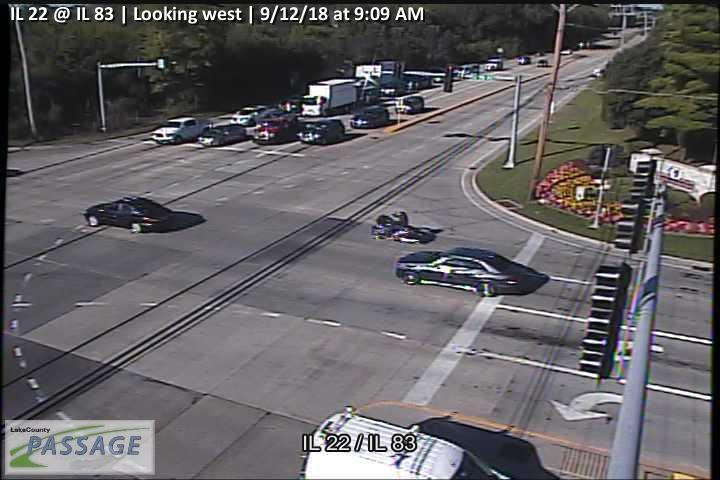Motorbike: (370, 209, 434, 244)
SUV: (300, 407, 509, 480), (252, 113, 299, 146), (293, 117, 345, 145), (198, 122, 246, 147), (349, 106, 390, 129), (396, 95, 425, 115)
Sedan: (395, 246, 542, 297), (83, 196, 172, 234), (231, 105, 276, 128)
Truck: (301, 79, 356, 116), (152, 117, 211, 146)
